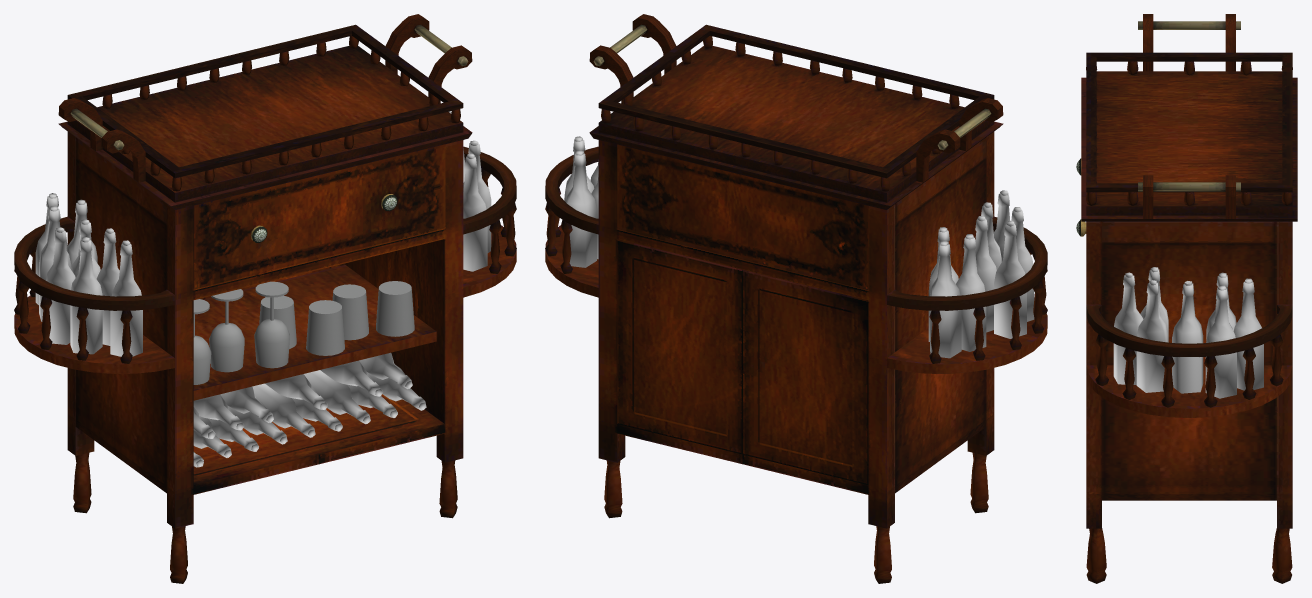
File: drinkscab.DAE
3 renders of one model, left to right at view 1: azimuth 30°, elevation 25°; view 2: azimuth 150°, elevation 25°; view 3: azimuth 270°, elevation 25°, orthographic. The views are drawn at different scales.
Visible parts, largest first — view 1: cabinet, wine_bottles, drawer, glasses; view 2: cabinet, wine_bottles; view 3: cabinet, wine_bottles.
Boxes of the visible parts, x1,y1,x2,y2 form: cabinet: [14, 14, 516, 583]; wine_bottles: [35, 111, 491, 467]; drawer: [193, 144, 444, 290]; glasses: [193, 281, 414, 384]; cabinet: [545, 14, 1047, 583]; wine_bottles: [564, 136, 1034, 358]; cabinet: [1081, 14, 1297, 583]; wine_bottles: [1113, 267, 1263, 398].
Bounding box in the file's own units: 1.67 × 1.48 × 0.7053.
